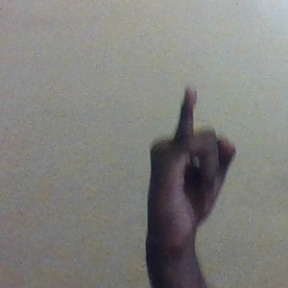I: (142, 83, 237, 247)
